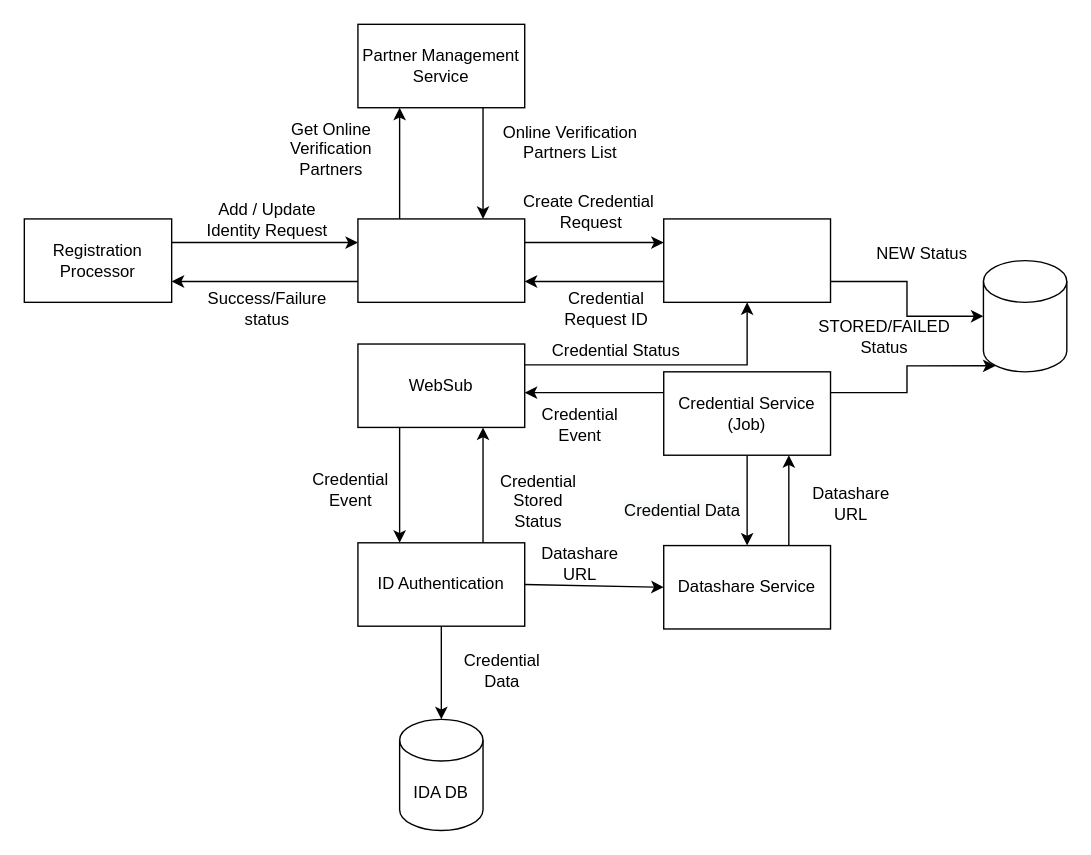
Some shapes in this 1091 by 855 pixel diagram are drawn without their labels. The box of each missing label's shape, as (x1, y1, x2, y2) in pixels:
Credential DB: (982, 259, 1067, 372)
Credential Request Generator Service: (662, 218, 831, 302)
ID Repository: (357, 218, 525, 302)
